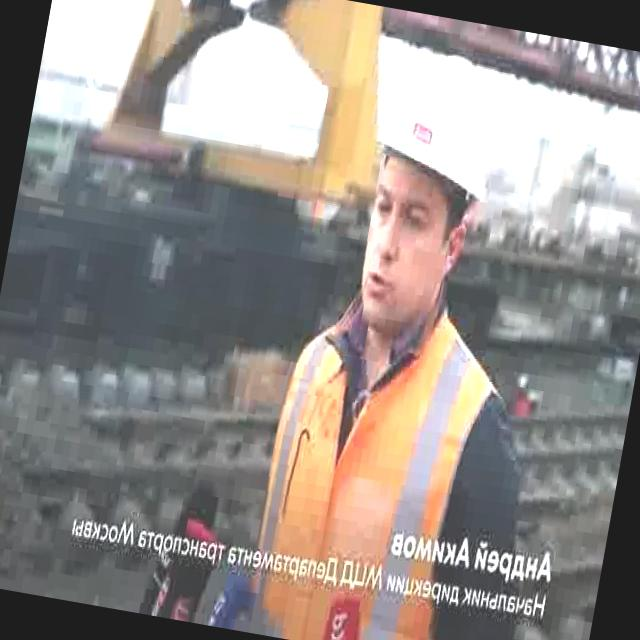vest: (237, 273, 522, 640)
